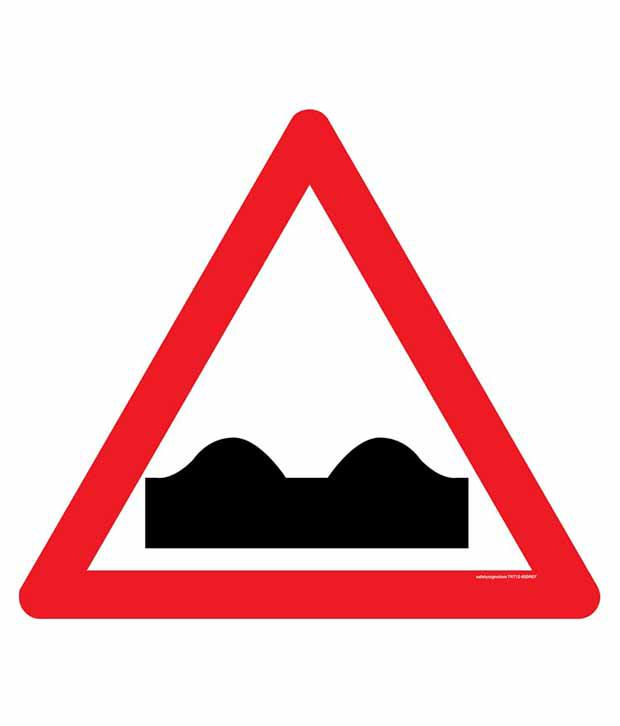speed-breaker: (83, 182, 537, 591)
